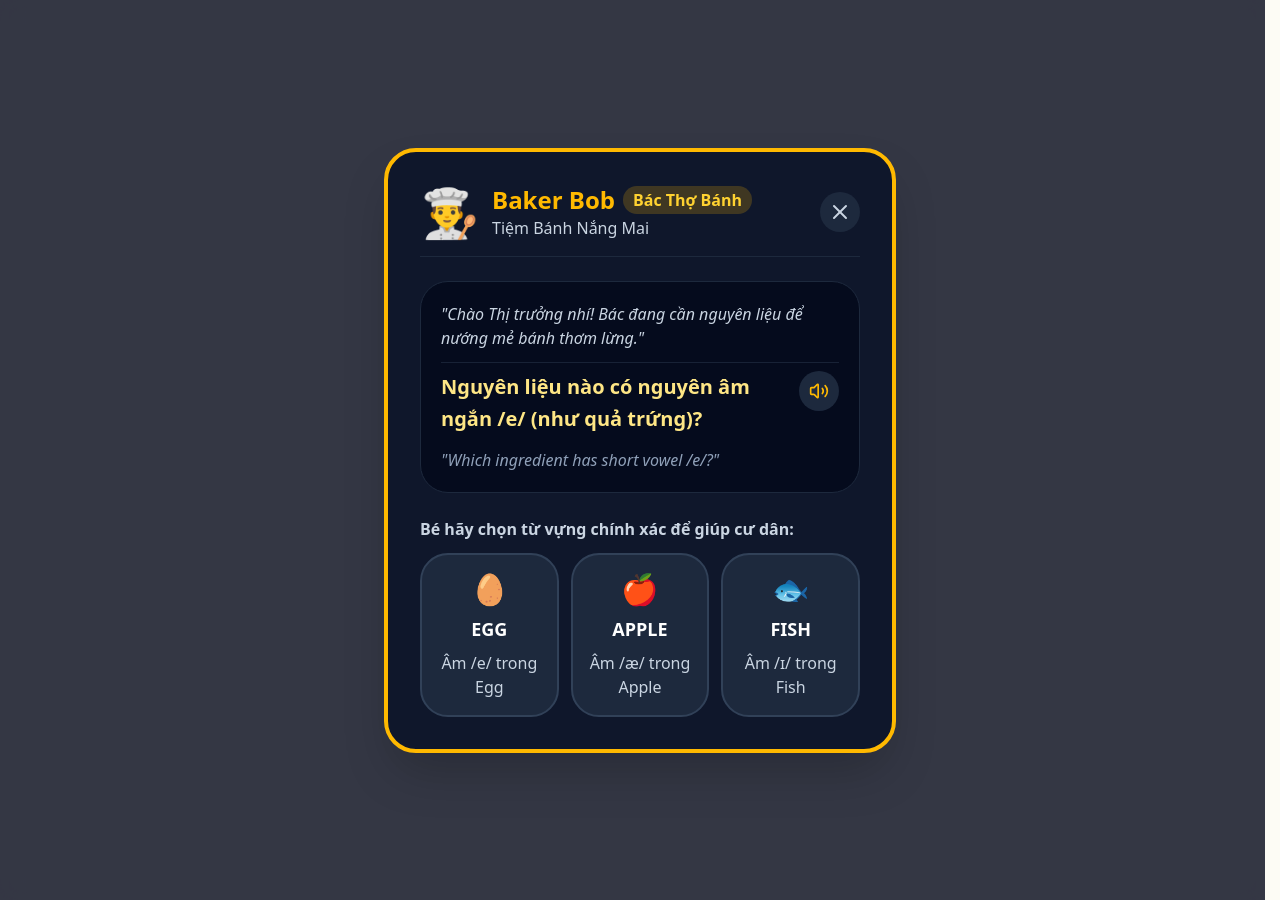
Test case: Phonics Town UI Components › TownResidentQuestModal › renders NPC greeting, options, and handles correct answer
The width and height of the screenshot is (1280, 900).
Expected: the heading "Baker Bob" is shown, x1=492 y1=184 x2=615 y2=216
Expected: the text "Nguyên liệu nào có nguyên âm ngắn /e/ (như quả trứng)?" is shown, x1=441 y1=370 x2=787 y2=436
Click correct option EGG
Click the button "🥚 EGG Âm /e/ trong Egg" at (489, 634), box x1=420 y1=552 x2=559 y2=716
Wait 1500 ms
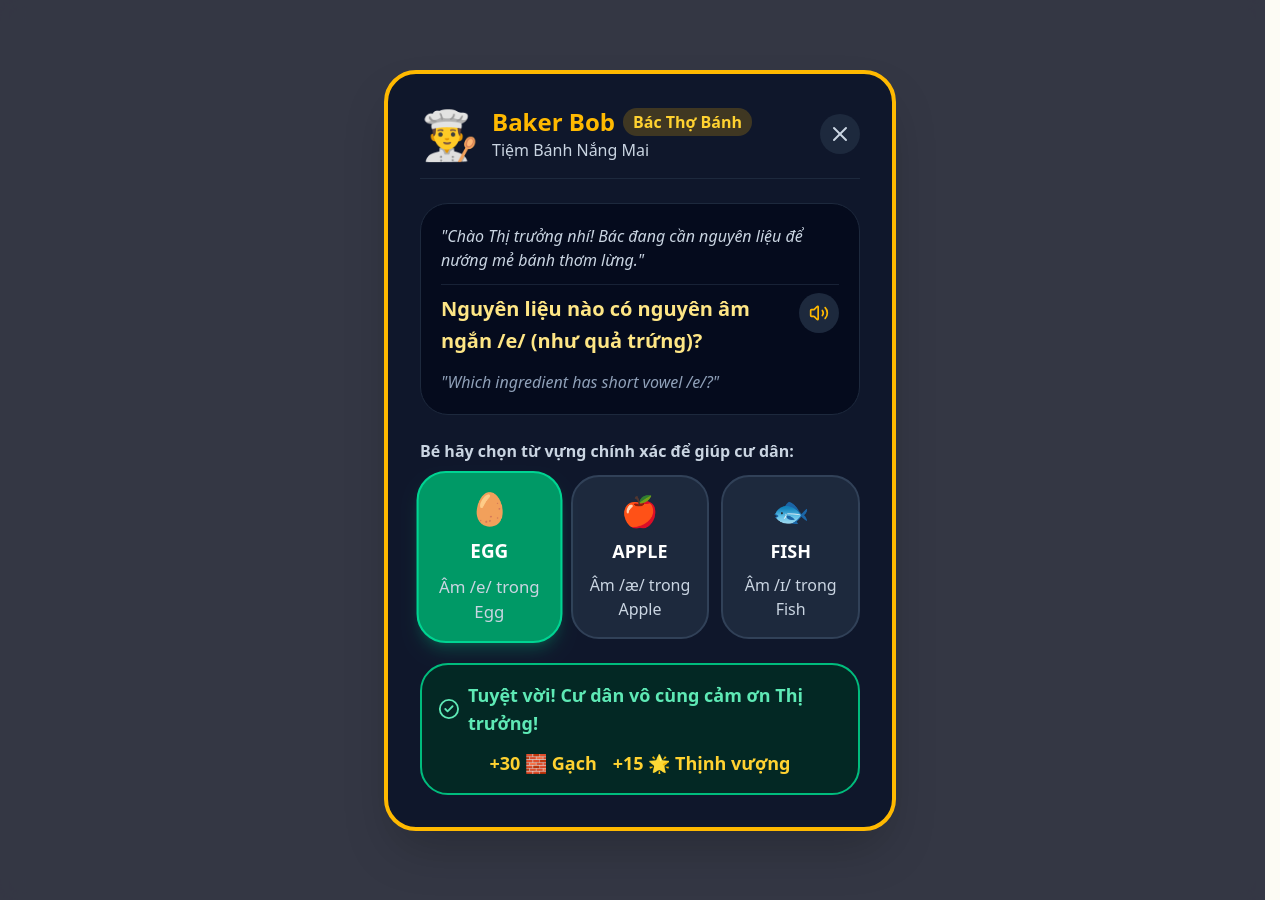
Expected: the text "Tuyệt vời! Cư dân vô cùng cảm ơn Thị trưởng!" is shown, x1=468 y1=680 x2=842 y2=736
